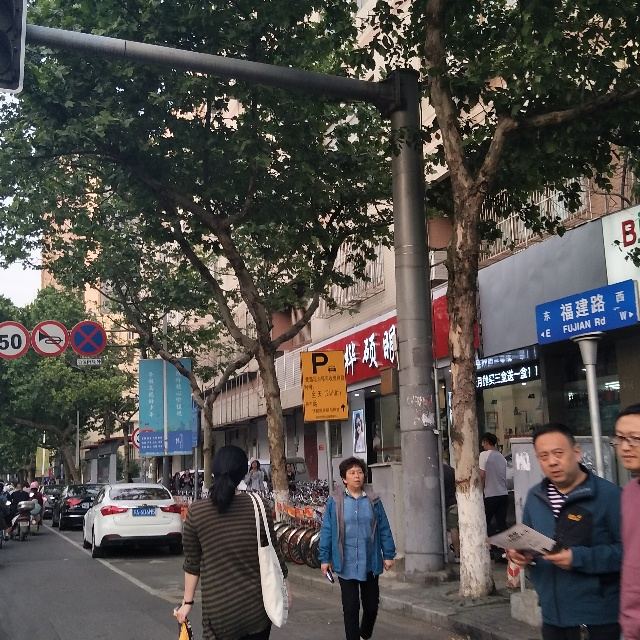nohonk: (33, 318, 70, 359)
stop: (71, 320, 107, 362)
